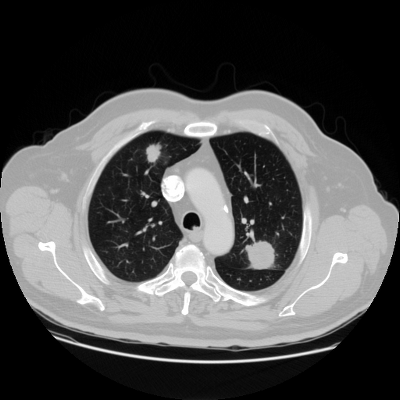nodule: (245, 240, 277, 272)
